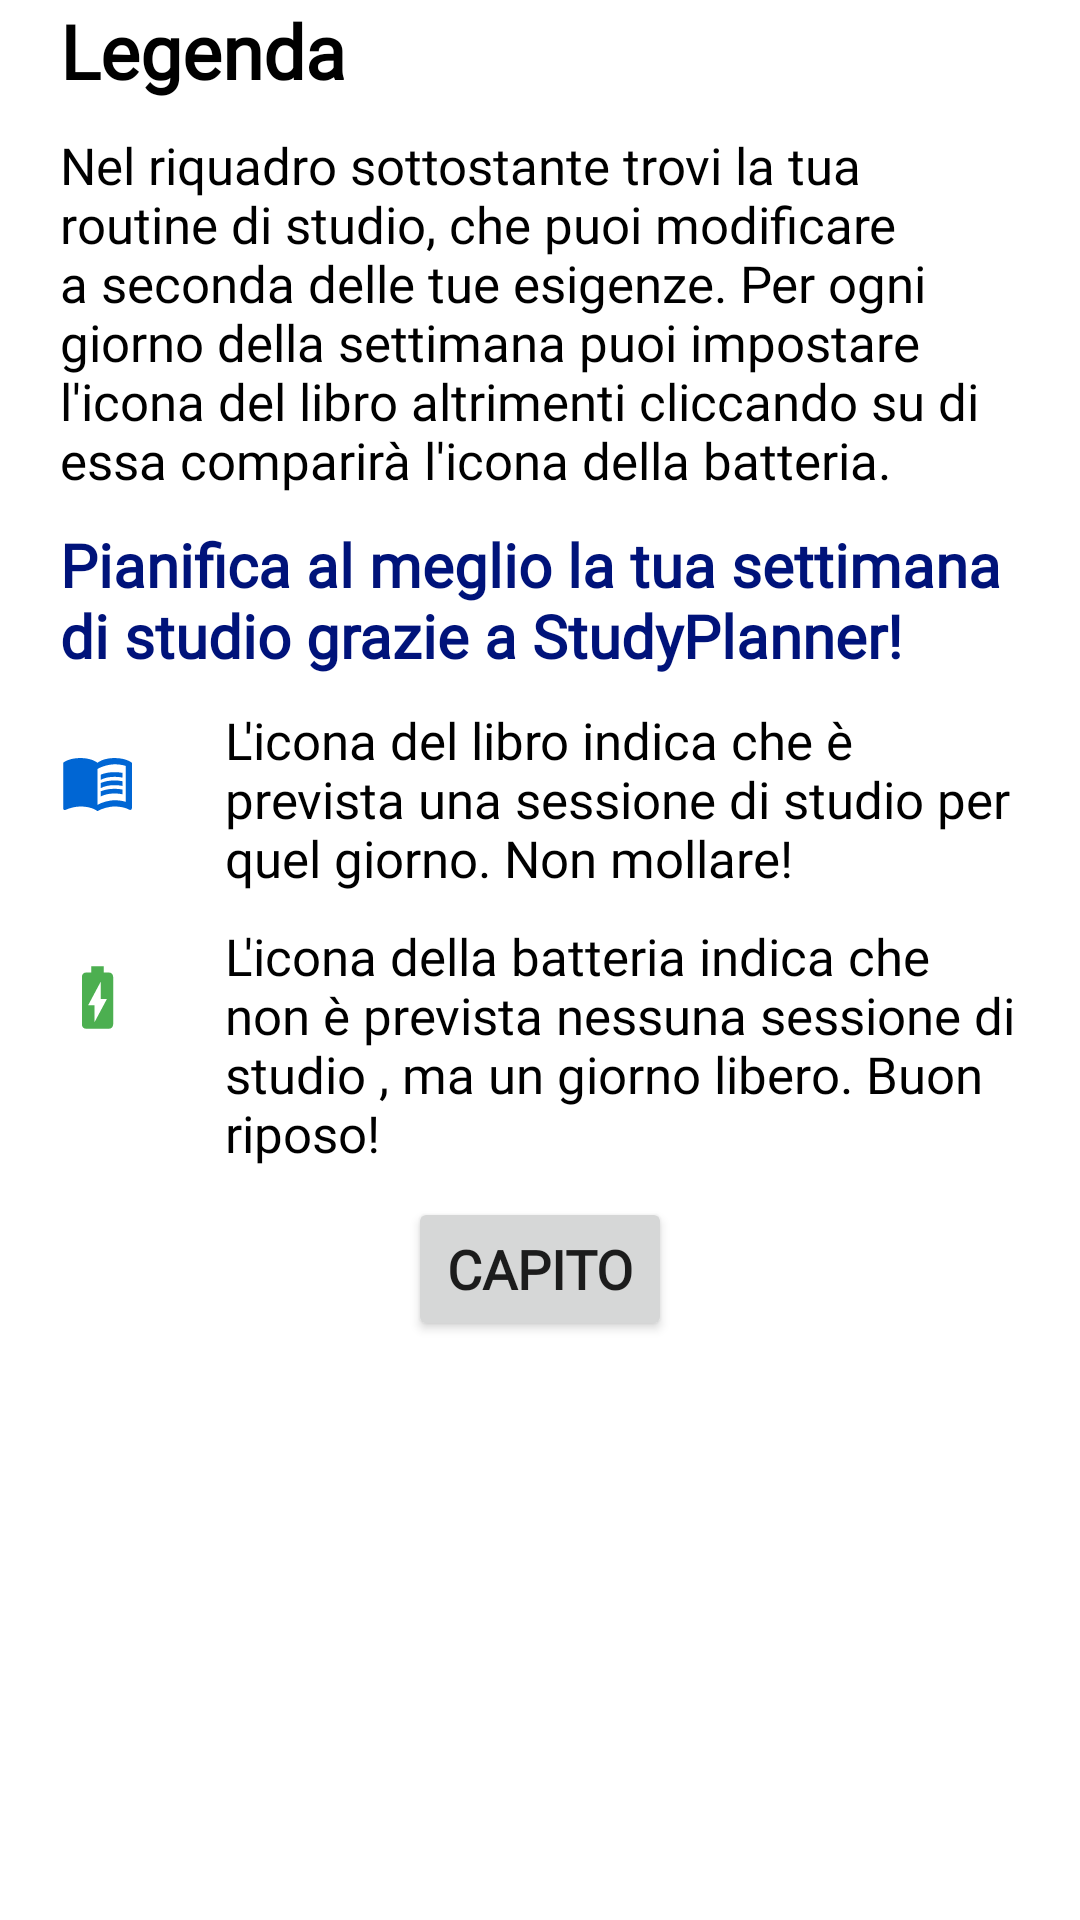

Icon click points for this 1080*1920 phone screenshot, format point (x, y):
battery charging full: point (98, 997)
book: point (97, 784)
